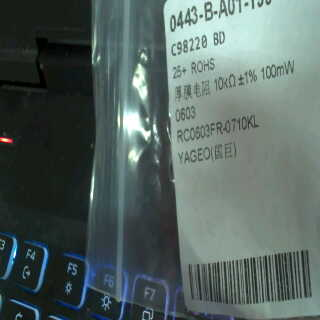10kR: (212, 68, 236, 97)
